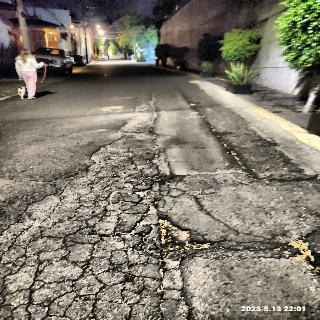alligator-crack: (6, 211, 192, 320), (104, 146, 170, 210), (215, 222, 320, 262)
pothole: (149, 214, 211, 259)
